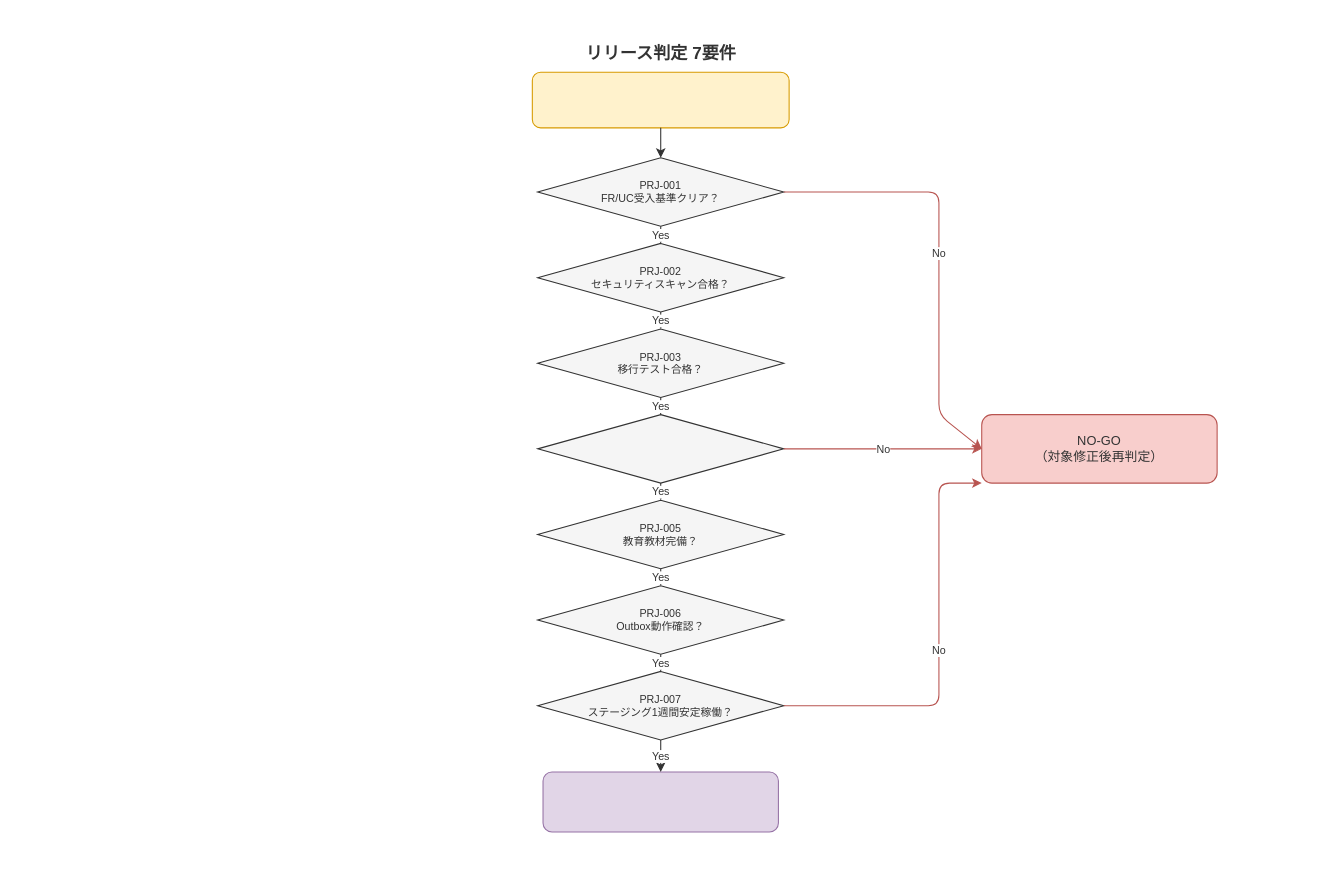
This 1320x892 diagram has some shape labels left out. The centre of each missing label's shape, as x and y in pixels:
"PRJ-004 運用手順書完備？" goes at [660,448].
"リリース GO" goes at [660,801].
"リリース判定" goes at [660,99].
